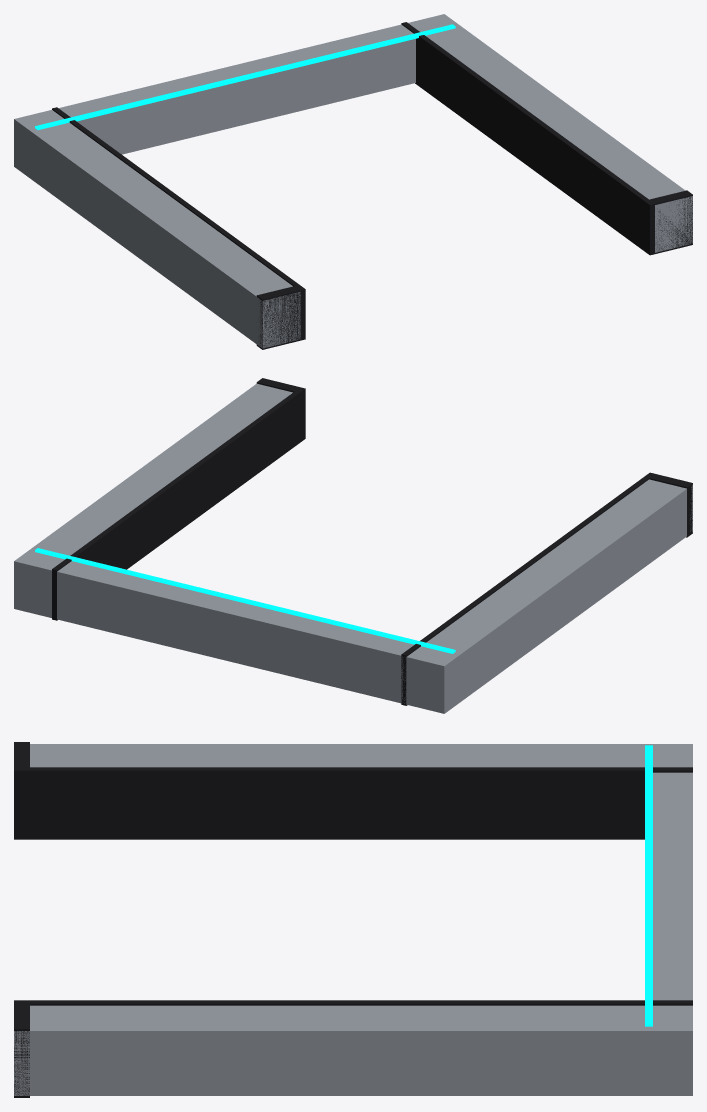
Rendered from Door_Frame.glb.
3 views of the same model, one above another, from view 1: azimuth 30°, elevation 25°; view 2: azimuth 150°, elevation 25°; view 3: azimuth 270°, elevation 25° (orthographic). The views are drawn at different scales.
Visible parts, largest first — view 1: Door_Frame; view 2: Door_Frame; view 3: Door_Frame.
Part boxes in pixels (x1,y1,x2,y2): Door_Frame: (14,14,692,349); Door_Frame: (14,378,692,713); Door_Frame: (14,742,692,1097).
Size of the model in its own units: 3.4 by 0.385 by 3.4.
